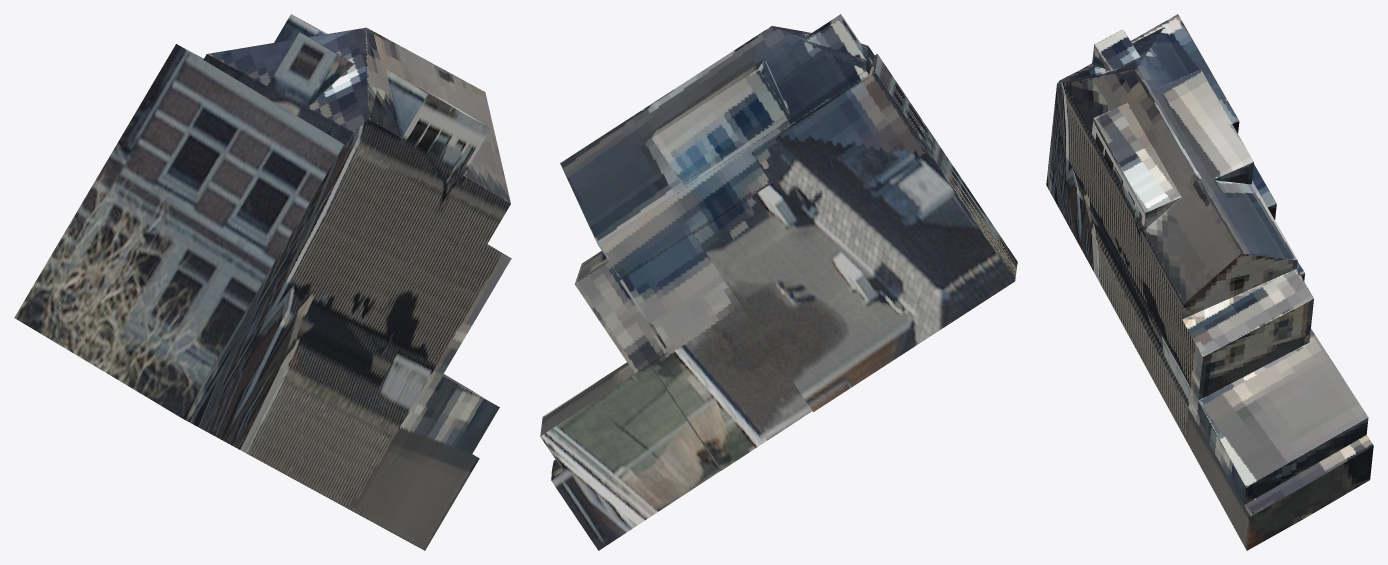
3 views of the same model, side by side, from view 1: azimuth 30°, elevation 25°; view 2: azimuth 150°, elevation 25°; view 3: azimuth 270°, elevation 25° (orthographic). The views are drawn at different scales.
Parts seen in each view (by area): view 1: BAG_0599100000760377 (×7); view 2: BAG_0599100000760377 (×10); view 3: BAG_0599100000760377 (×9).
Part boxes in pixels (<box>): BAG_0599100000760377 (×7): <box>14,14,511,550</box>; BAG_0599100000760377 (×10): <box>540,14,1017,550</box>; BAG_0599100000760377 (×9): <box>1046,14,1373,550</box>.
Bounding box in the file's own units: 15.01 × 16.82 × 11.13.
2 materials, 1 textured.
